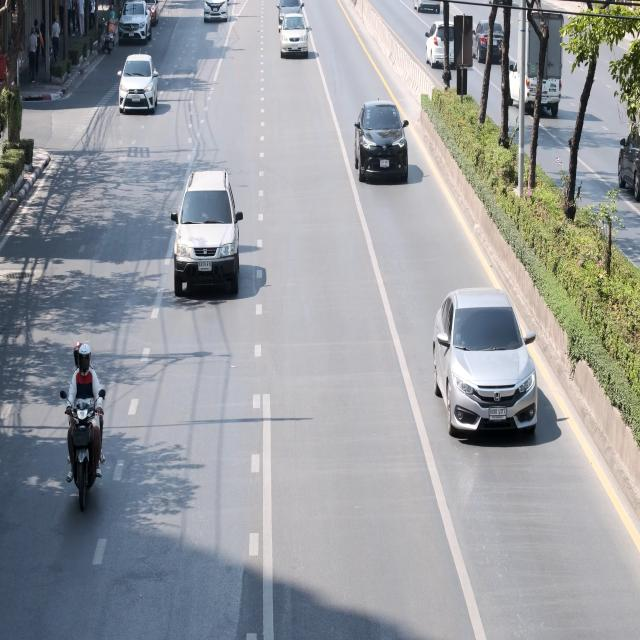cars: (432, 287, 539, 446), (169, 164, 241, 298), (352, 100, 412, 188), (116, 48, 160, 120), (422, 16, 464, 73), (615, 126, 640, 203), (472, 17, 508, 62), (120, 0, 152, 46), (277, 12, 308, 56), (278, 0, 306, 25), (205, 0, 228, 27), (144, 0, 161, 25)
motorcycle: (61, 332, 105, 504)
